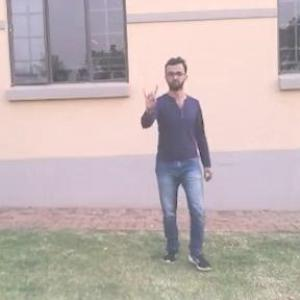takeoff-hand: (136, 76, 164, 119)
